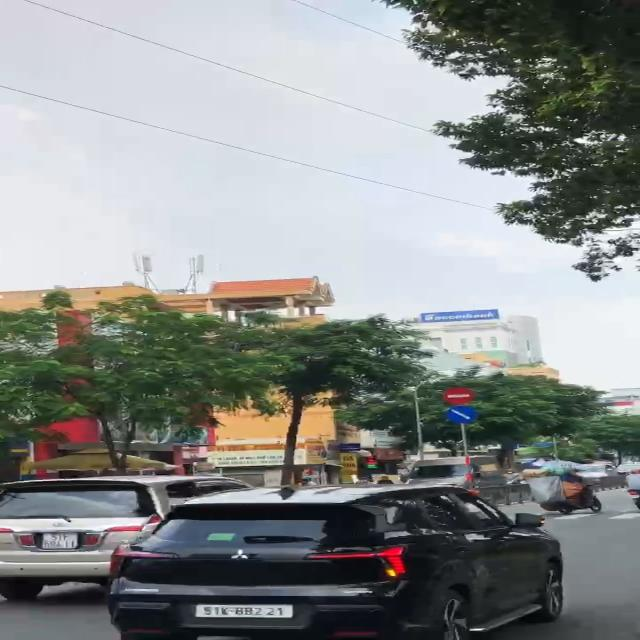Bien bao cam di nguoc chieu: (442, 387, 475, 405)
Bien bao huong phai di vong chuong ngai vat: (445, 406, 480, 425)
